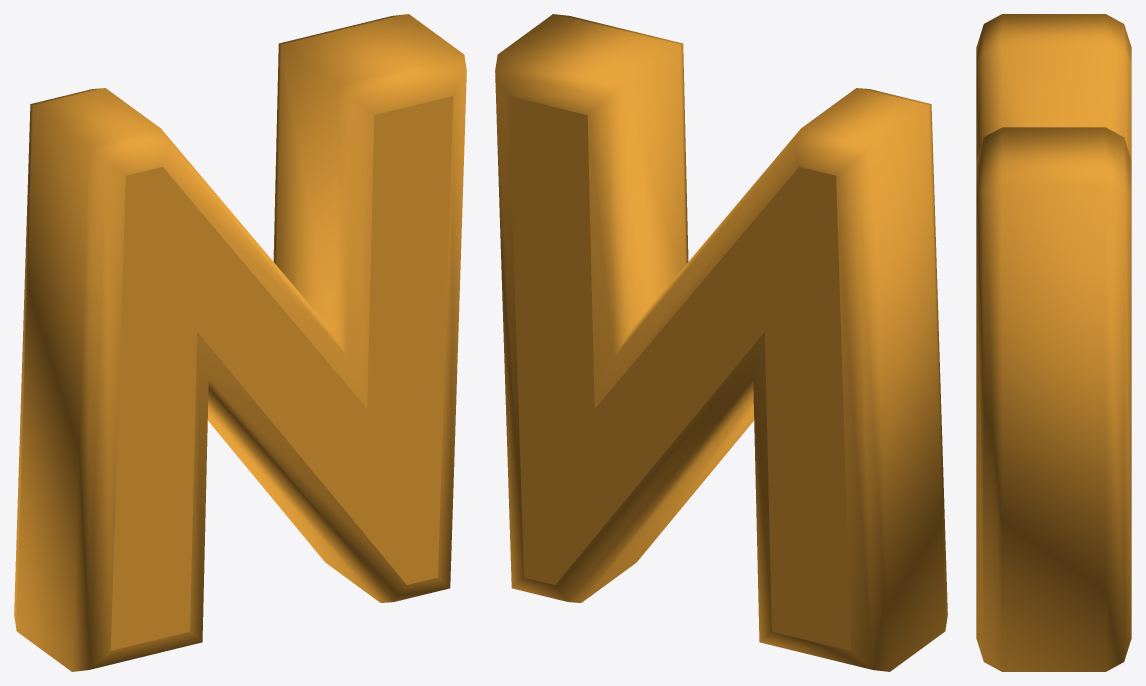
File: N_Caps.fbx
3 views of the same model, side by side, from view 1: azimuth 30°, elevation 25°; view 2: azimuth 150°, elevation 25°; view 3: azimuth 270°, elevation 25° (orthographic). The views are drawn at different scales.
Visible parts, largest first — view 1: N; view 2: N; view 3: N.
Part boxes in pixels (bbox=[...]): N: bbox=[14, 14, 466, 671]; N: bbox=[495, 14, 947, 671]; N: bbox=[976, 14, 1131, 671].
Size of the model in its own units: 0.4905 by 0.6309 by 0.18.
